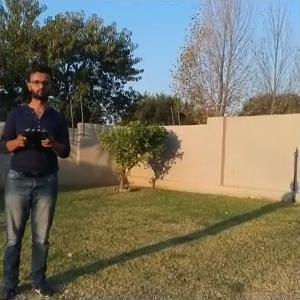follow: (0, 60, 72, 299)
